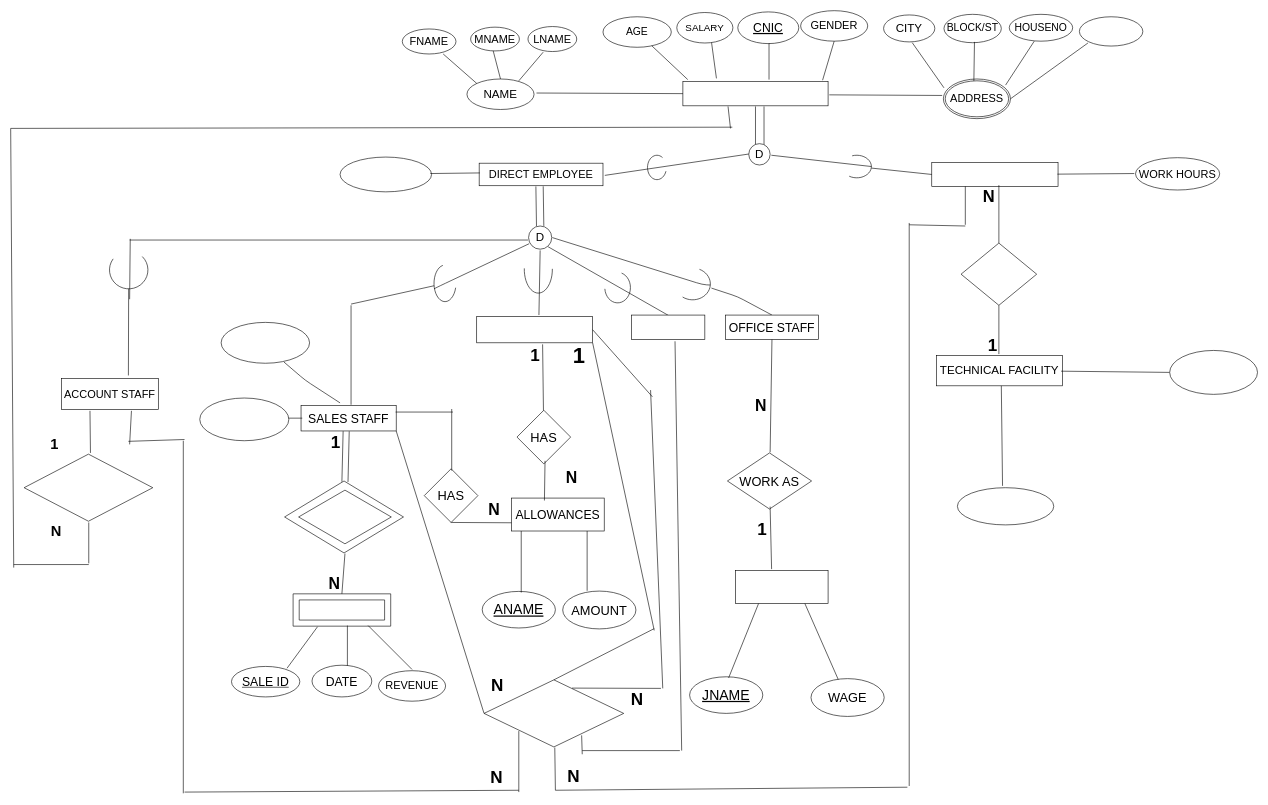
Image size: 1268x805. Some labels were removed from this diagram. The box of each missing label's shape, as (x1, y1, x2, y2) in pixels:
ADMINISTERS: (483, 679, 624, 747)
ADMINISTRATION STAFF: (476, 316, 593, 343)
AREA: (1079, 16, 1143, 46)
COMMISSION: (221, 322, 310, 363)
EMPLOYEE: (682, 81, 828, 106)
EMPLOYEE ID: (339, 156, 432, 192)
INDIRECT EMPLOYEE: (931, 162, 1058, 186)
IT: (631, 314, 705, 339)
JOB NAME: (1169, 350, 1258, 394)
JOB TYPE: (735, 570, 828, 604)
MANIPULATE ACCOUNTS: (23, 454, 153, 521)
NO OF SALES: (199, 397, 289, 441)
PERFORMS: (298, 490, 391, 544)
PROVIDES: (960, 242, 1037, 305)
RATE PER HOUR: (957, 487, 1054, 525)
SALES: (292, 593, 391, 626)
